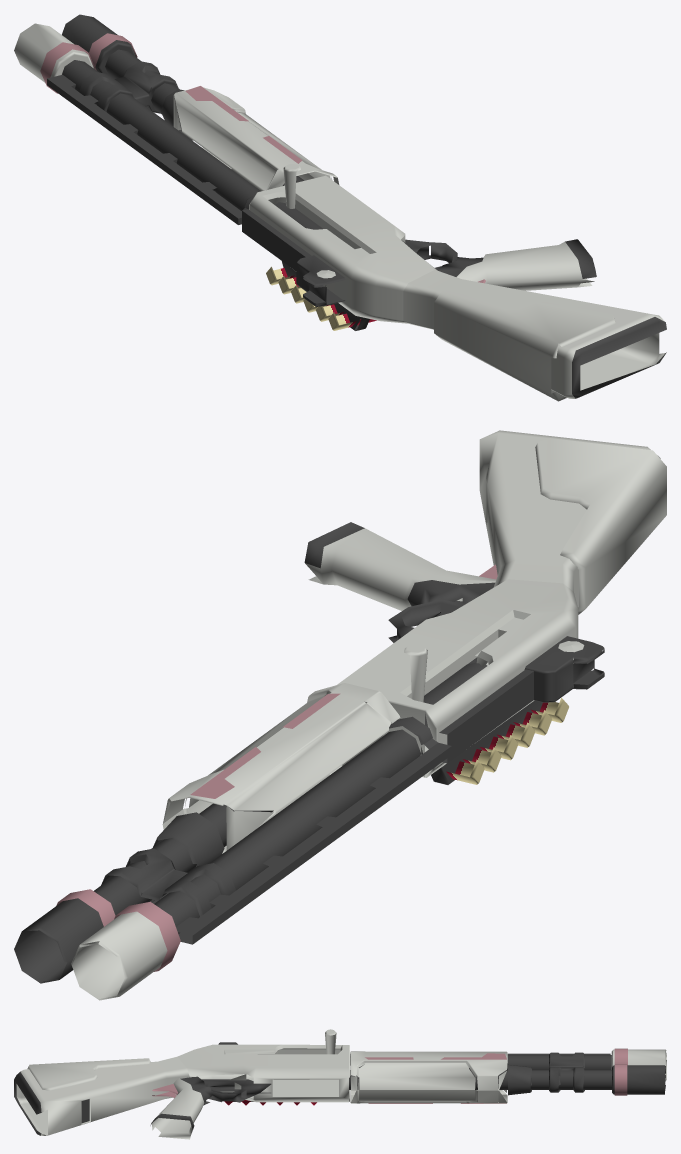
Rendered from shiroko_terror_gun 1.fbx.
3 renders of one model, top to bottom at view 1: azimuth 30°, elevation 25°; view 2: azimuth 150°, elevation 25°; view 3: azimuth 270°, elevation 25°, orthographic. The views are drawn at different scales.
Parts seen in each view (by area): view 1: EN0002_EX05_Outline.001; view 2: EN0002_EX05_Outline.001; view 3: EN0002_EX05_Outline.001.
Part boxes in pixels (x1,y1,x2,y2): EN0002_EX05_Outline.001: (14, 14, 666, 401); EN0002_EX05_Outline.001: (14, 430, 666, 1000); EN0002_EX05_Outline.001: (14, 1029, 666, 1139).
Size of the model in its own units: 16.61 by 6.9 by 56.88.
